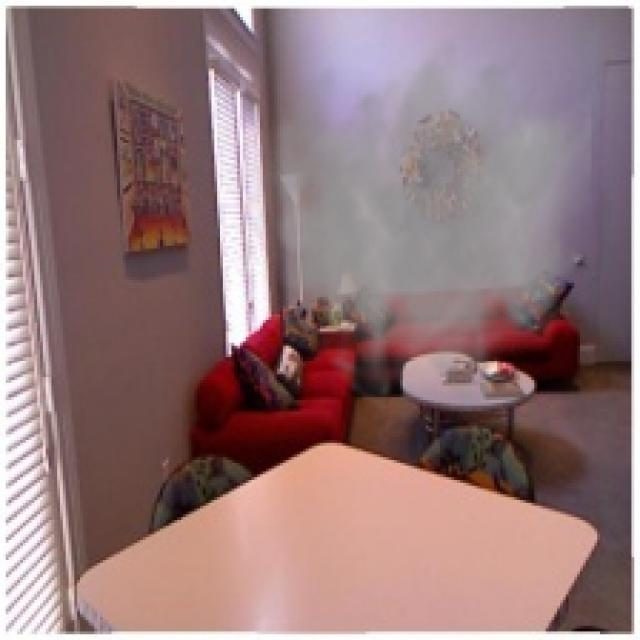smoke: (237, 31, 592, 412)
